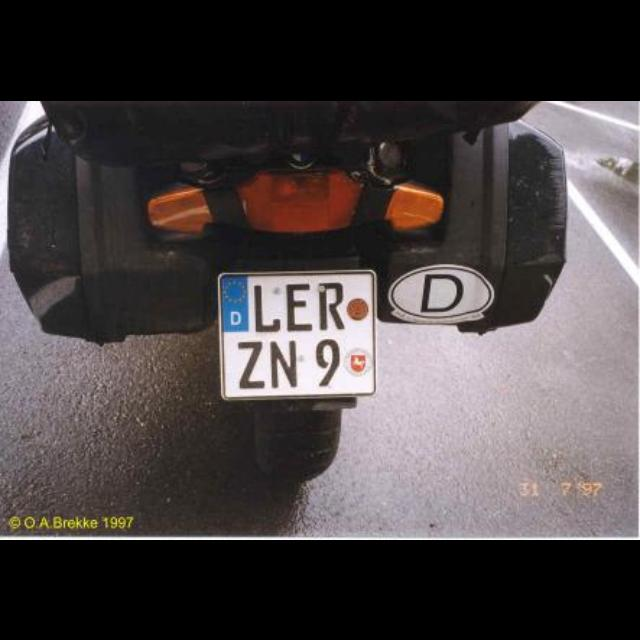d_license_plate: (215, 268, 375, 394)
